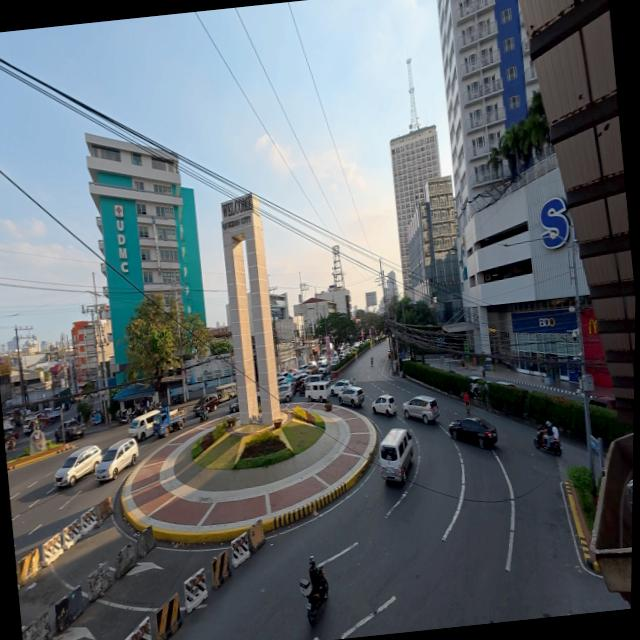Jeepneys: (216, 383, 237, 401)
car: (55, 446, 102, 487), (449, 417, 498, 448), (403, 395, 439, 423), (336, 384, 365, 409), (55, 419, 86, 442), (193, 394, 219, 415), (372, 394, 397, 415), (590, 396, 616, 410), (469, 375, 485, 394), (331, 380, 350, 395), (278, 384, 293, 402), (495, 380, 518, 388), (229, 399, 239, 413), (276, 374, 286, 384), (308, 361, 317, 371), (285, 373, 295, 382), (298, 364, 308, 372), (319, 356, 328, 364), (332, 357, 340, 365), (289, 368, 298, 373), (257, 392, 261, 403), (354, 342, 360, 349), (5, 444, 7, 452)
motorcycle: (300, 569, 328, 623), (534, 430, 562, 456), (197, 405, 210, 422), (118, 410, 132, 425), (388, 352, 391, 359), (371, 359, 373, 367)
trucks: (153, 407, 186, 437)
vans: (96, 438, 138, 482), (380, 429, 413, 481), (125, 409, 161, 442), (305, 381, 330, 402), (24, 415, 39, 434), (306, 373, 324, 384)
